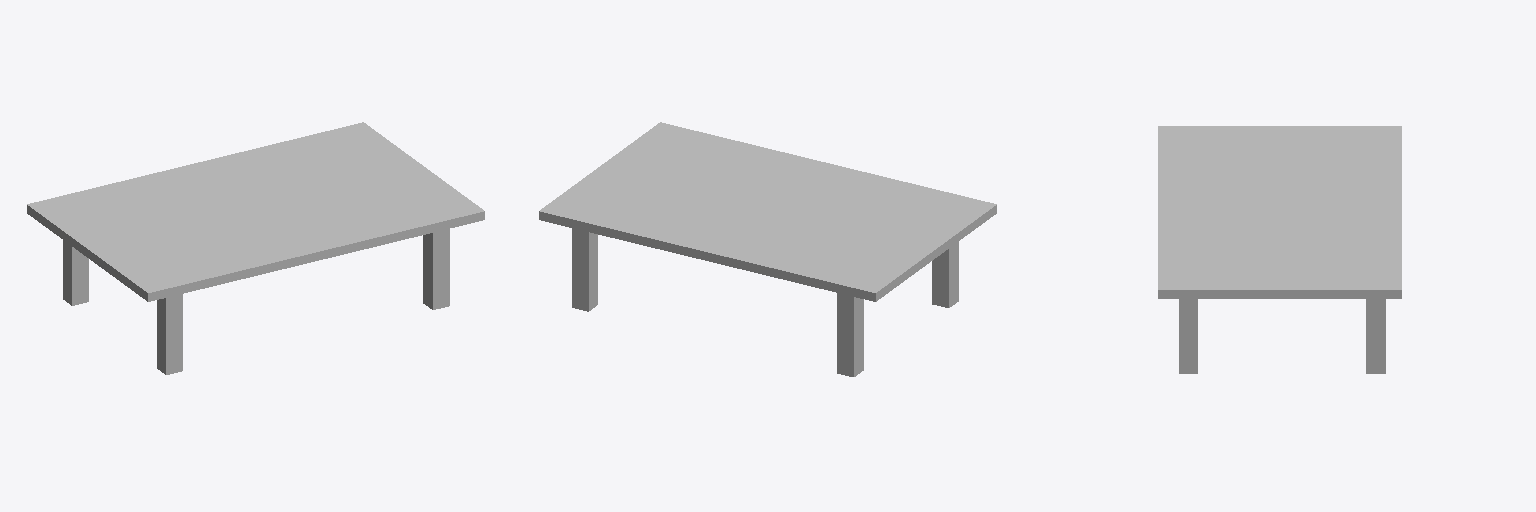
The model's file is table.obj.
The picture shows the model from 3 angles: view 1: azimuth 30°, elevation 25°; view 2: azimuth 150°, elevation 25°; view 3: azimuth 270°, elevation 25°; orthographic projection.
Visible parts, largest first — view 1: pCube5, pCube3, pCube2, pCube1; view 2: pCube5, pCube1, pCube4, pCube2; view 3: pCube5, pCube4, pCube3.
Part boxes in pixels (bbox=[...]): pCube5: bbox=[27, 122, 484, 301]; pCube3: bbox=[423, 229, 449, 309]; pCube2: bbox=[157, 294, 182, 374]; pCube1: bbox=[63, 240, 88, 305]; pCube5: bbox=[539, 122, 996, 301]; pCube1: bbox=[837, 293, 863, 376]; pCube4: bbox=[572, 228, 597, 311]; pCube2: bbox=[932, 242, 958, 307]; pCube5: bbox=[1158, 126, 1401, 298]; pCube4: bbox=[1366, 299, 1385, 373]; pCube3: bbox=[1179, 299, 1197, 373].
Size of the model in its own units: 4 by 1.09 by 2.5.